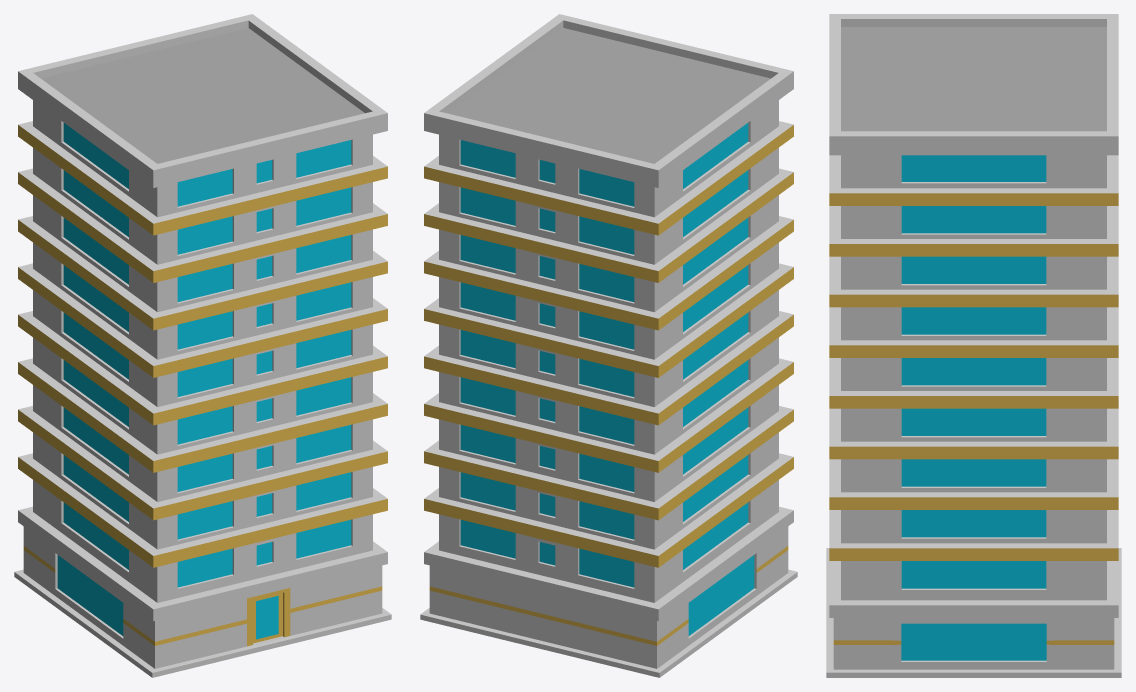
Rendered from apartment.fbx.
3 renders of one model, left to right at view 1: azimuth 30°, elevation 25°; view 2: azimuth 150°, elevation 25°; view 3: azimuth 270°, elevation 25°, orthographic. The views are drawn at different scales.
Visible parts, largest first — view 1: apartment; view 2: apartment; view 3: apartment.
Boxes of the visible parts, x1=… form: apartment: x1=14, y1=14, x2=391, y2=677; apartment: x1=420, y1=14, x2=797, y2=677; apartment: x1=826, y1=14, x2=1121, y2=677.
Size of the model in its own units: 1000 by 2020 by 1000.
